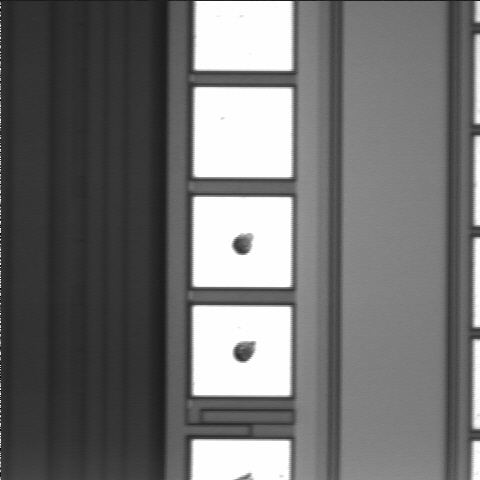pad: (193, 305, 291, 396), (193, 197, 292, 287), (194, 87, 292, 177)
